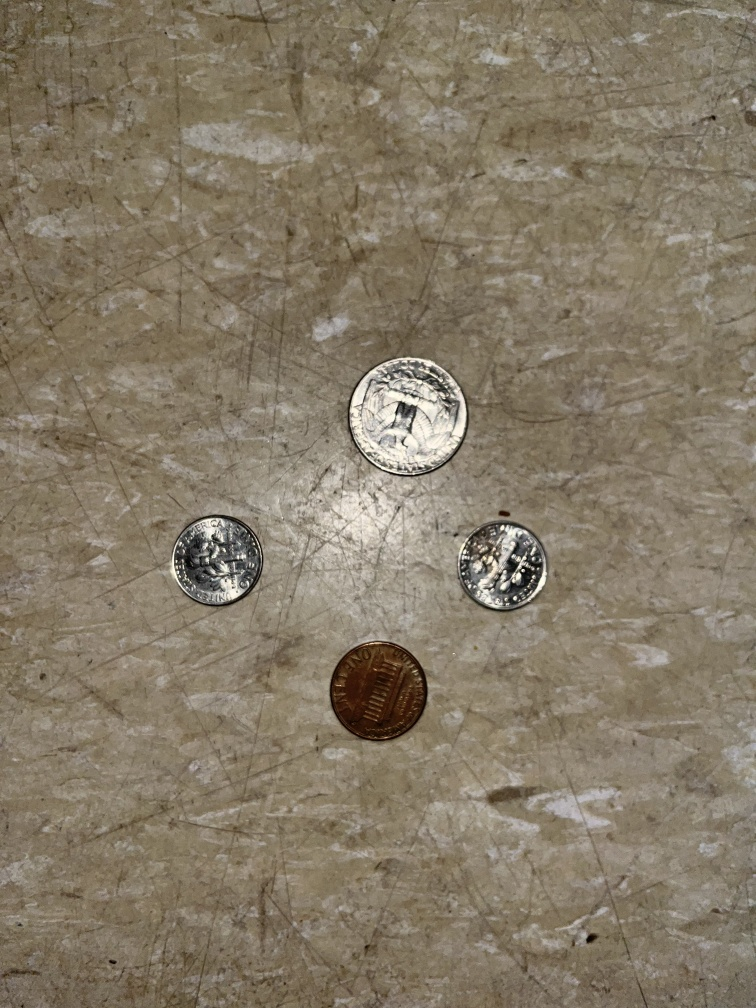dime: (450, 507, 551, 628), (162, 509, 271, 619)
penny: (320, 634, 435, 755)
quarter: (340, 351, 474, 485)
